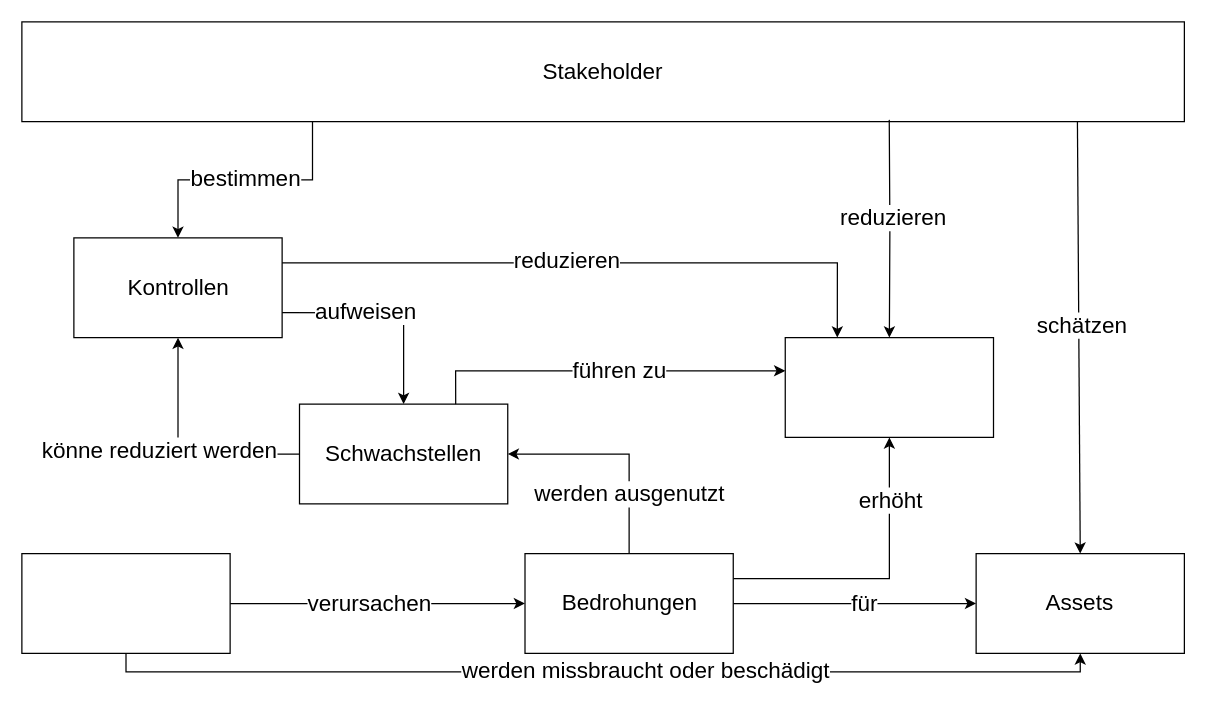
Image size: 1206x719. Some labels were removed from this diagram. The shapes that lost their labels are listed below. From the top down, each one's box as (x1, y1, x2, y2) in pixels, then its label:
(784, 336, 994, 437): Risiken
(21, 552, 230, 653): Täter
